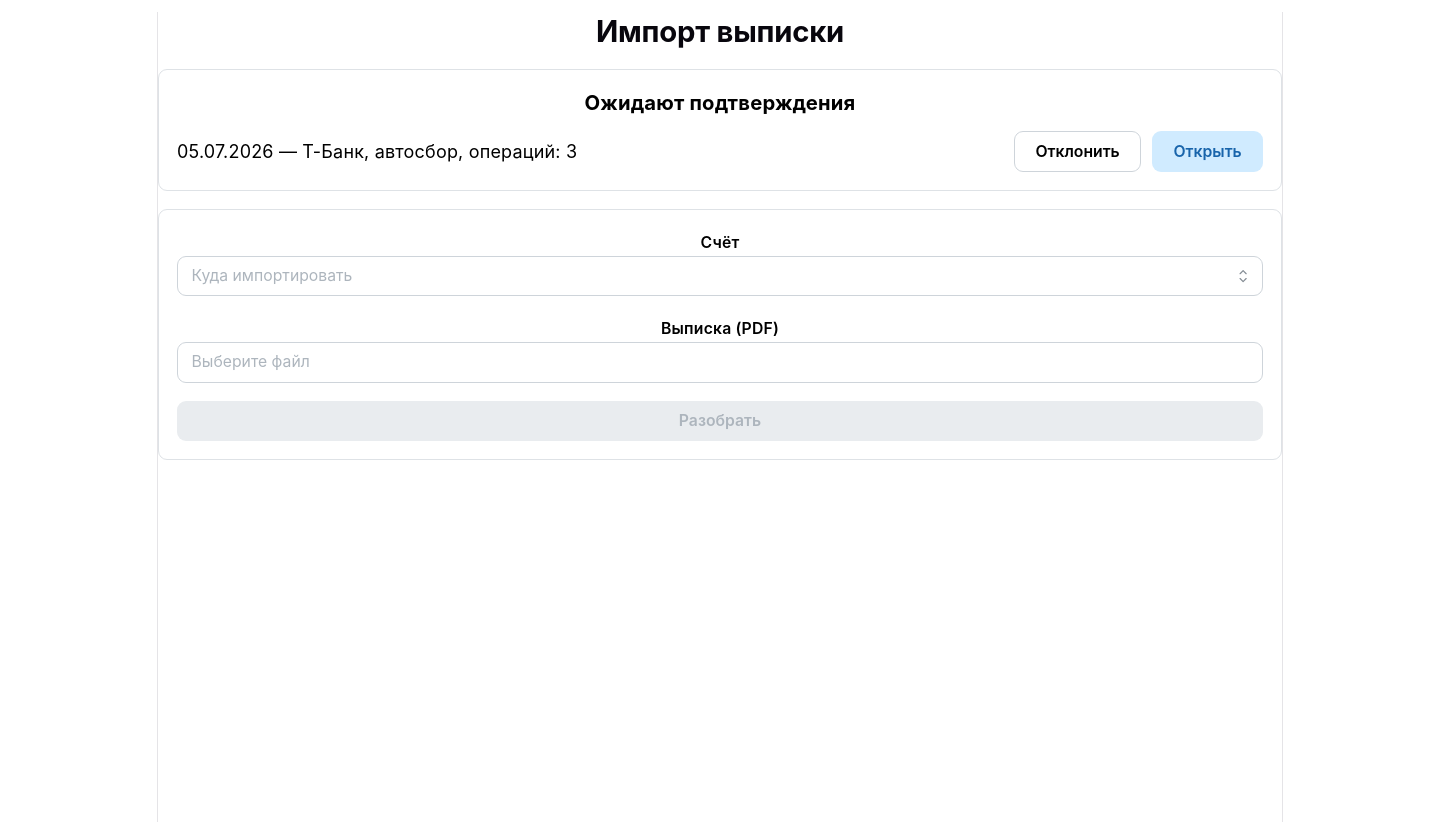
Scenario: импорт от коллектора открывается из списка ожидающих
Expected: the text "05.07.2026 — Т-Банк, автосбор, операций: 3" is shown, top-left (177, 138), bottom-right (577, 166)
Click the button "Открыть". click: [1208, 152]
box: top-left (1152, 131), bottom-right (1263, 172)
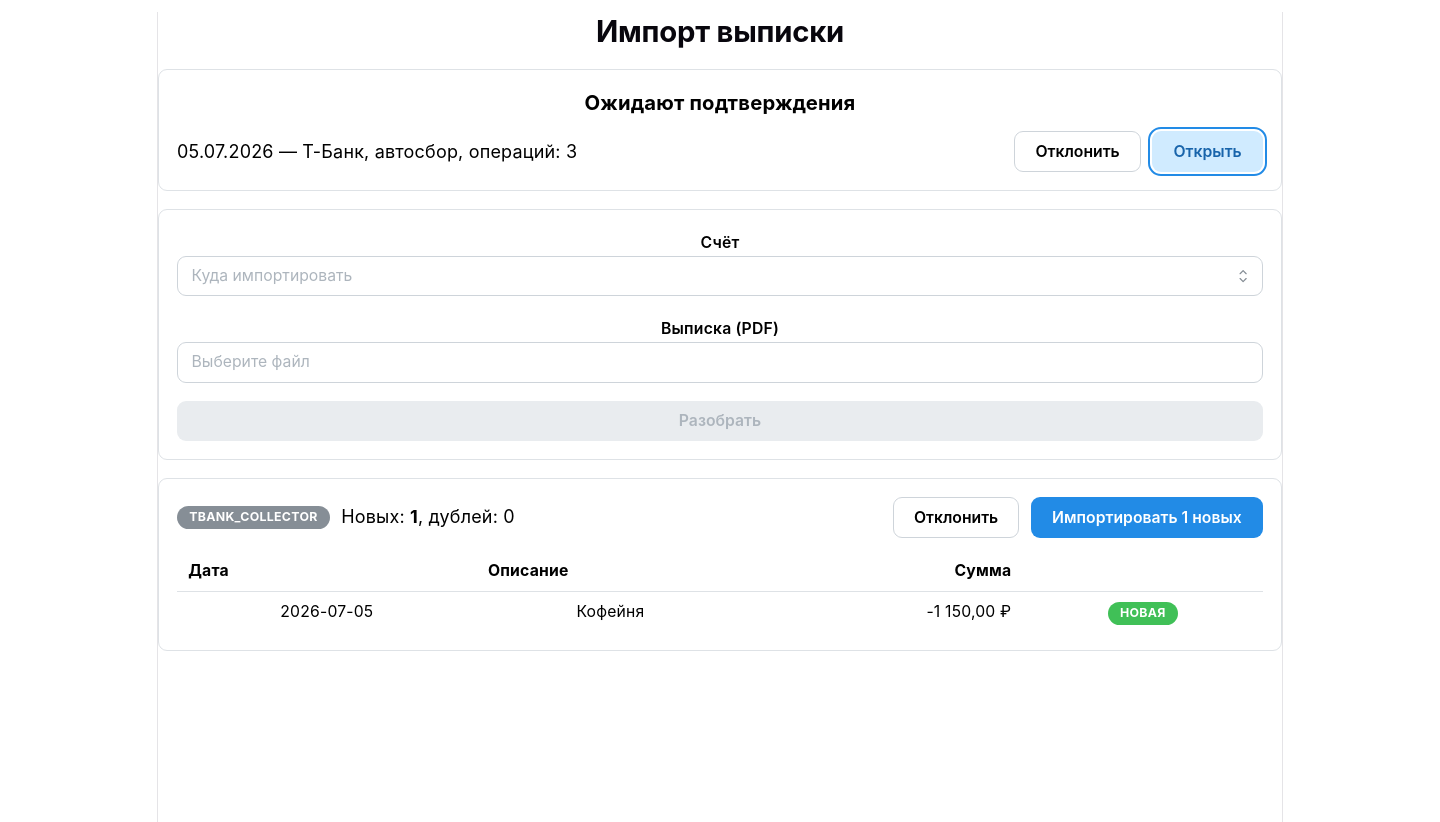
Expected: the text "Новых: 1, дублей: 0" is shown, top-left (341, 503), bottom-right (515, 531)
